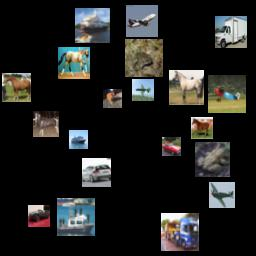airplane: (208, 75, 246, 113), (126, 5, 158, 37), (209, 182, 235, 208), (132, 79, 154, 101)
automobile: (82, 158, 111, 187), (28, 205, 50, 227), (162, 137, 181, 156)
bird: (103, 89, 122, 108)
frog: (125, 39, 163, 77), (195, 142, 230, 177)
ship: (57, 198, 95, 236), (75, 8, 110, 43), (69, 130, 88, 149)
truck: (161, 213, 199, 251), (215, 16, 247, 48)
